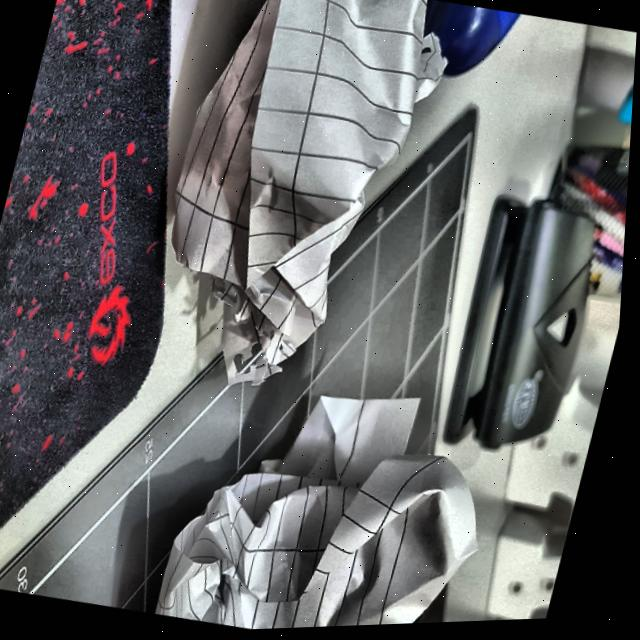paper: (121, 0, 435, 409), (139, 393, 518, 635)
